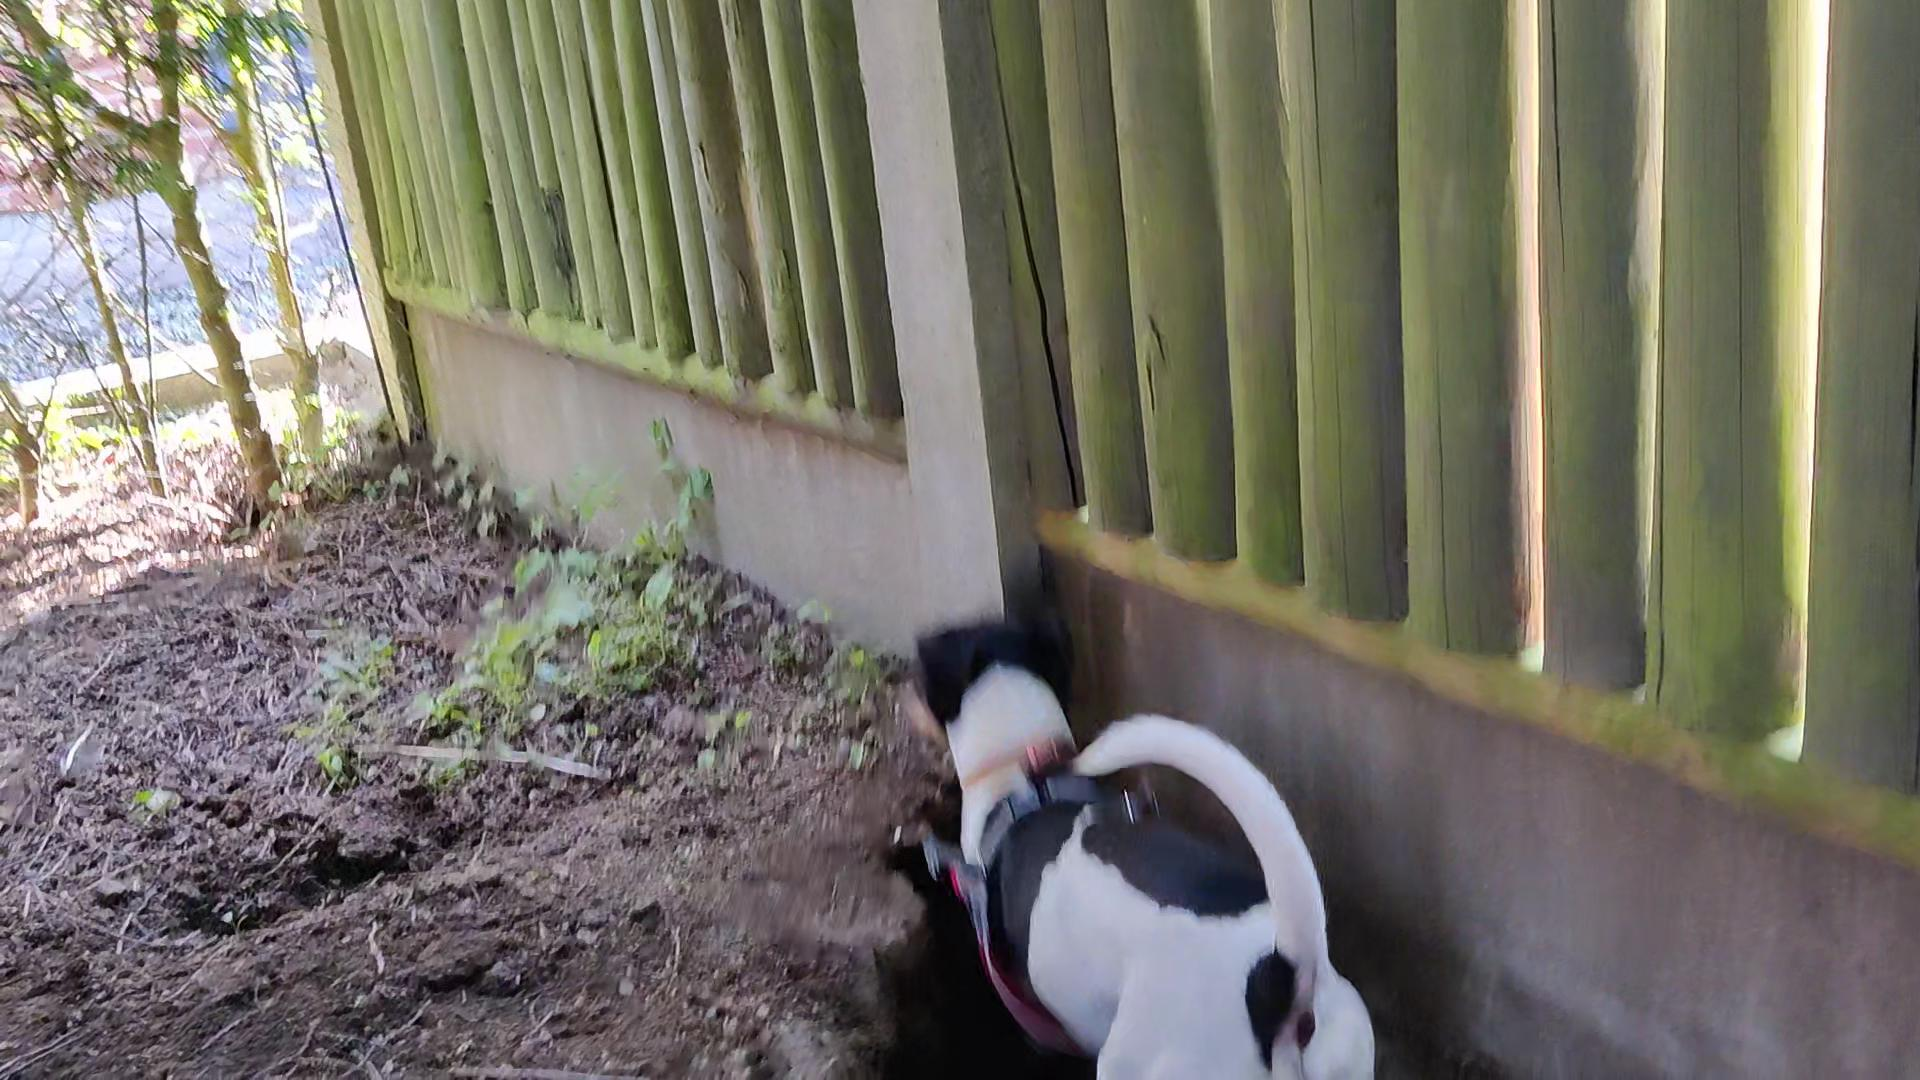Dog: (893, 600, 1383, 1079)
